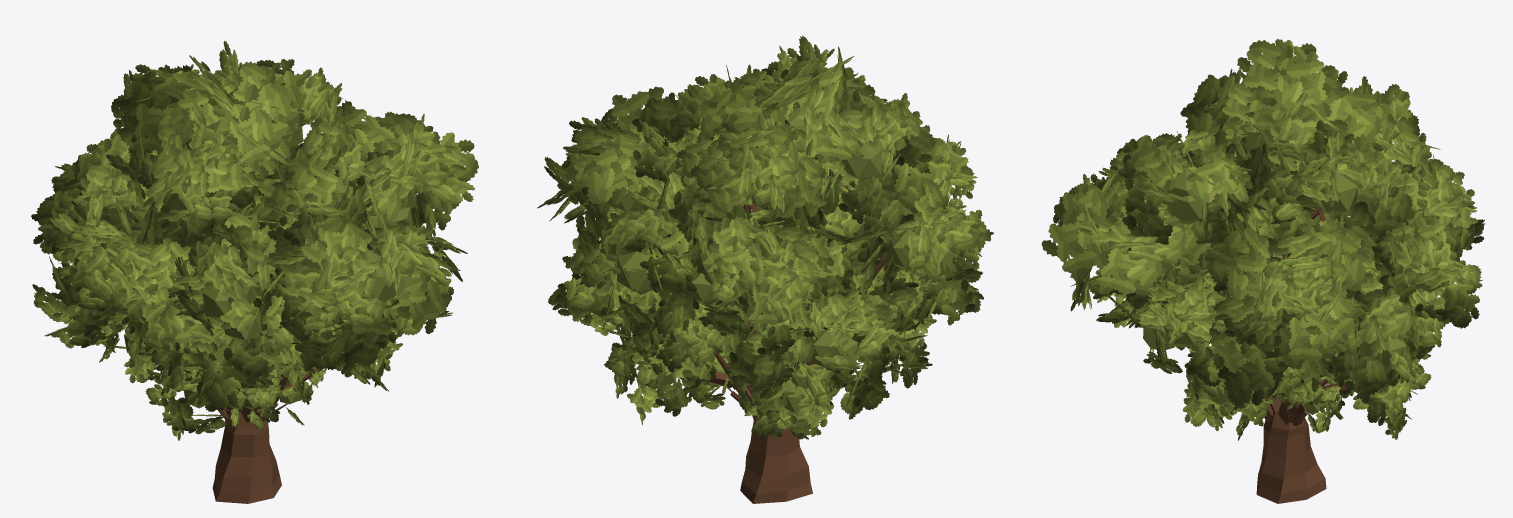
Rendered from trees.glb.
The picture shows the model from 3 angles, left to right: view 1: azimuth 30°, elevation 25°; view 2: azimuth 150°, elevation 25°; view 3: azimuth 270°, elevation 25°; orthographic projection. The views are drawn at different scales.
Parts seen in each view (by area): view 1: TreeOak, TreeOakM, TreeOakS; view 2: TreeOak, TreeOakM, TreeOakS; view 3: TreeOak, TreeOakM, TreeOakS.
Part boxes in pixels (x1,y1,x2,y2): TreeOak: [31, 41, 478, 503]; TreeOakM: [87, 195, 402, 440]; TreeOakS: [170, 364, 326, 432]; TreeOak: [537, 35, 993, 503]; TreeOakM: [604, 199, 936, 439]; TreeOakS: [680, 307, 858, 439]; TreeOak: [1041, 39, 1485, 503]; TreeOakM: [1161, 193, 1442, 440]; TreeOakS: [1213, 345, 1353, 433].
Size of the model in its own units: 12.14 by 11.94 by 11.69.
Materials: 3 (1 with a texture image).
